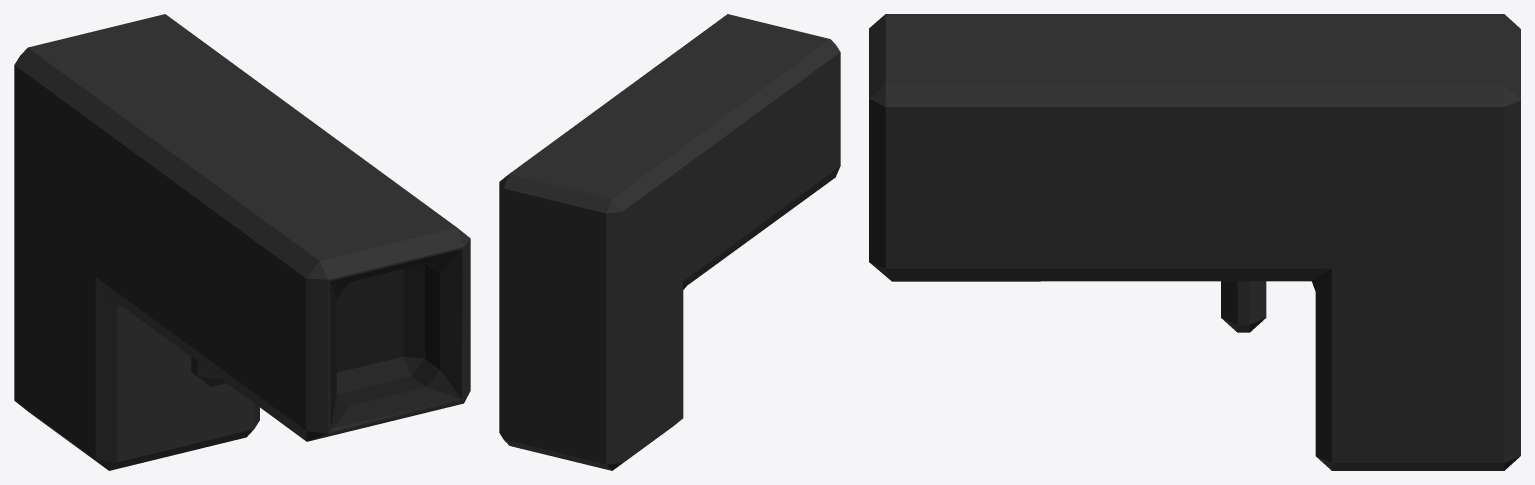
Rendered from Gun.fbx.
The picture shows the model from 3 angles, left to right: view 1: azimuth 30°, elevation 25°; view 2: azimuth 150°, elevation 25°; view 3: azimuth 270°, elevation 25°; orthographic projection. The views are drawn at different scales.
Visible parts, largest first — view 1: Cube; view 2: Cube; view 3: Cube.
Part boxes in pixels (<box>): Cube: <box>14,14,470,470</box>; Cube: <box>499,14,840,470</box>; Cube: <box>869,14,1520,470</box>.
Size of the model in its own units: 321 by 678 by 1038.
Materials: 1 (1 with a texture image).
